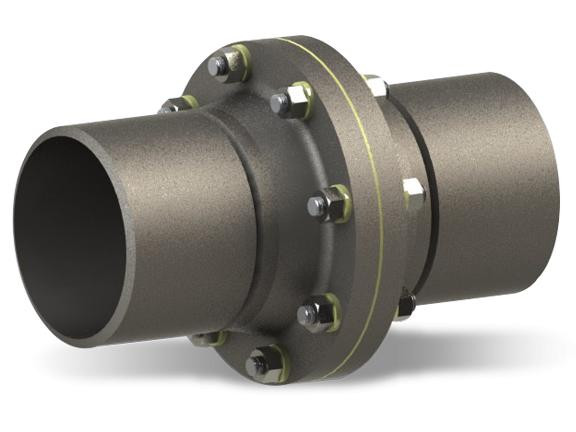bolt_b: (208, 44, 246, 87), (244, 344, 283, 383), (309, 185, 345, 226), (272, 83, 309, 121), (298, 293, 332, 334)
